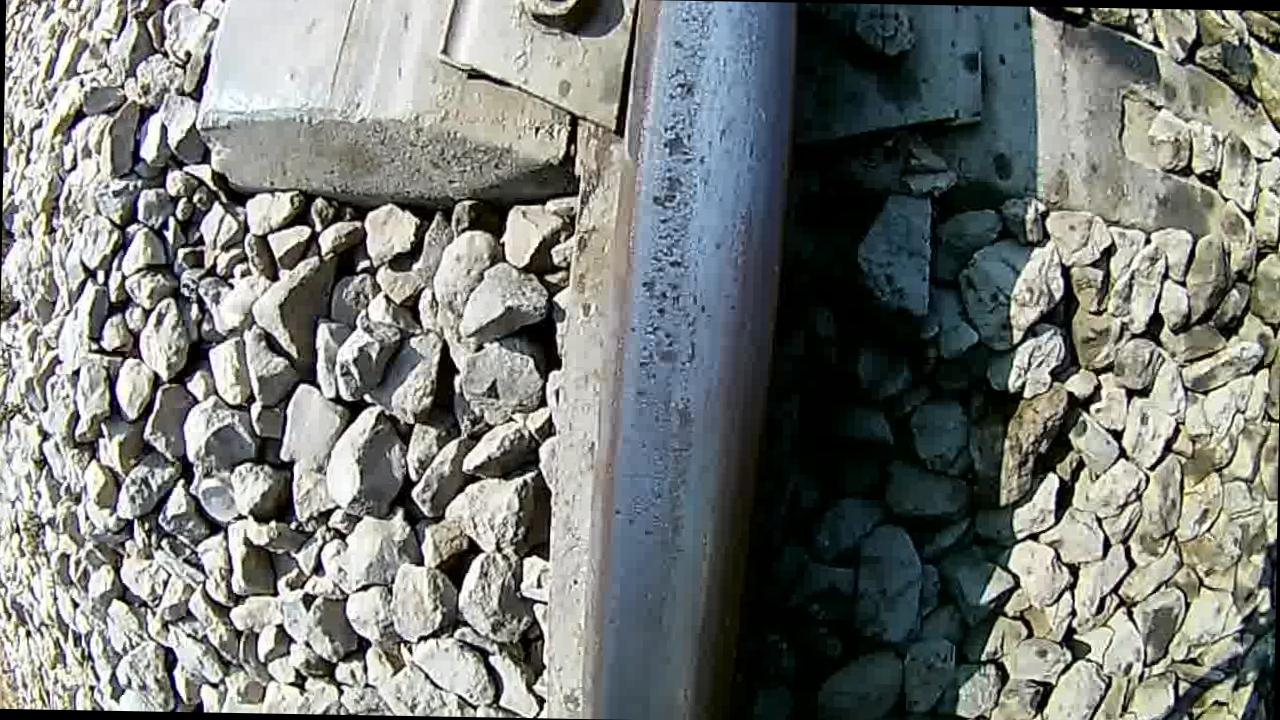crack: (606, 0, 790, 720)
